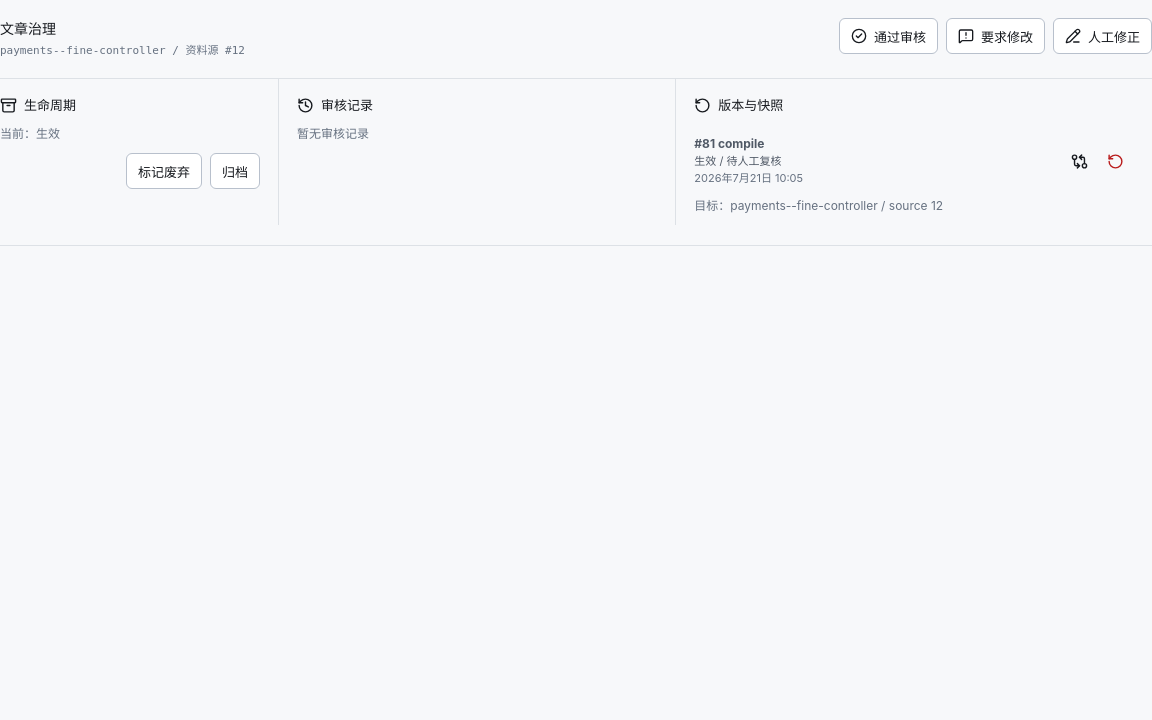
Test: article governance › compares an exact snapshot and confirms article, source and snapshot before rollback
Click the button named "对比快照 81": (1080,161) x1=1062 y1=143 x2=1098 y2=179
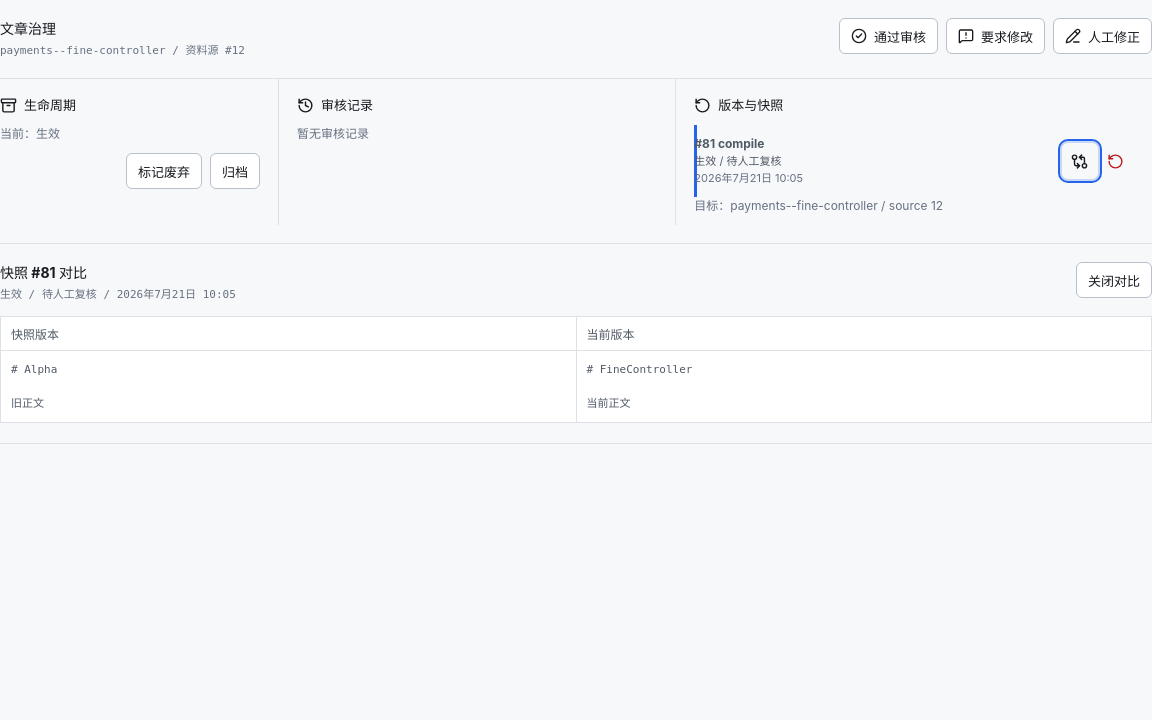
Expected: the heading "快照 #81 对比" is shown, x1=0 y1=264 x2=87 y2=281
Expected: the element "快照版本" shows "旧正文", x1=11 y1=363 x2=57 y2=410
Click the button named "回滚到快照 81": (1116,161) x1=1098 y1=143 x2=1134 y2=179
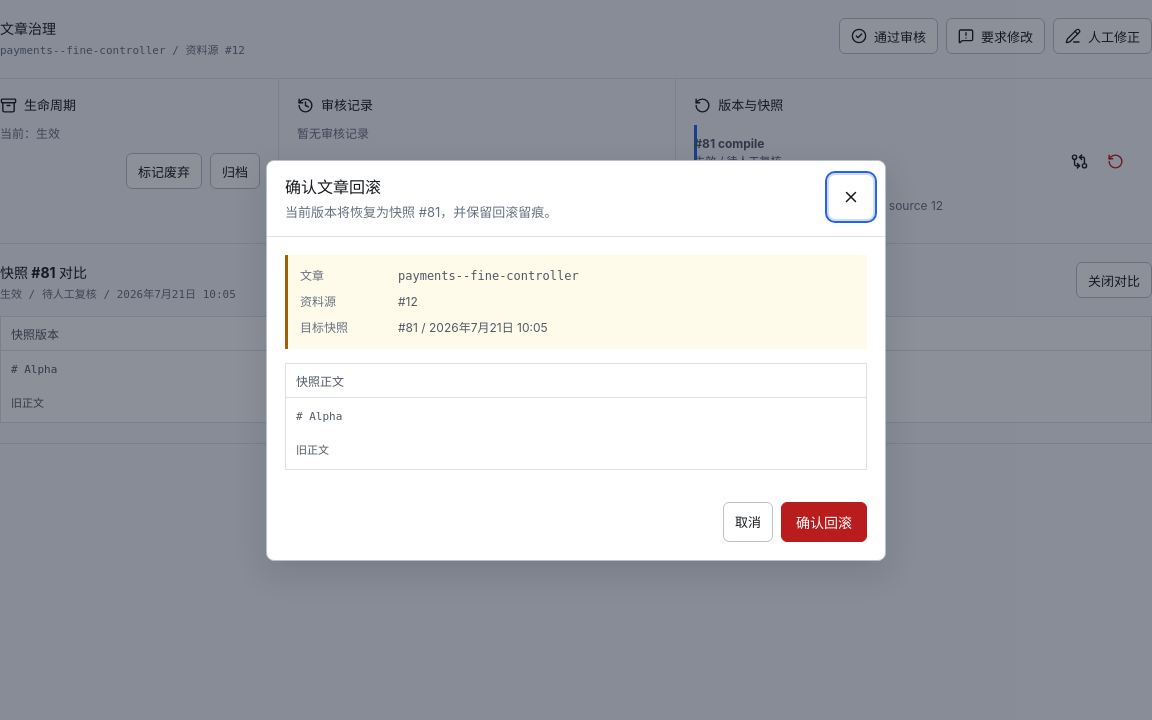
Expected: the text "payments--fine-controller" is shown, x1=398 y1=268 x2=579 y2=282
Expected: the text "#12" is shown, x1=398 y1=294 x2=418 y2=308
Expected: the text "当前版本将恢复为快照 #81，并保留回滚留痕。" is shown, x1=285 y1=204 x2=557 y2=220
Click the button "确认回滚": (824,522) x1=781 y1=502 x2=867 y2=542
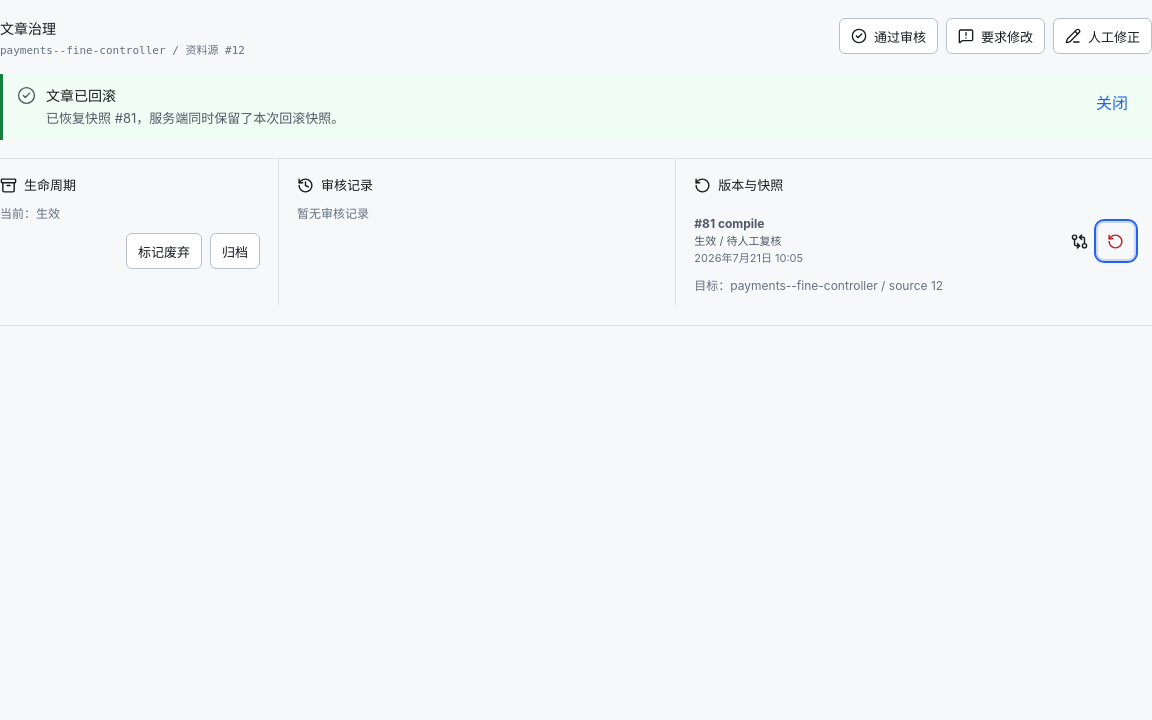
Expected: the text "文章已回滚" is shown, x1=46 y1=87 x2=116 y2=104
Expected: the text "已恢复快照 #81，服务端同时保留了本次回滚快照。" is shown, x1=46 y1=110 x2=344 y2=126
